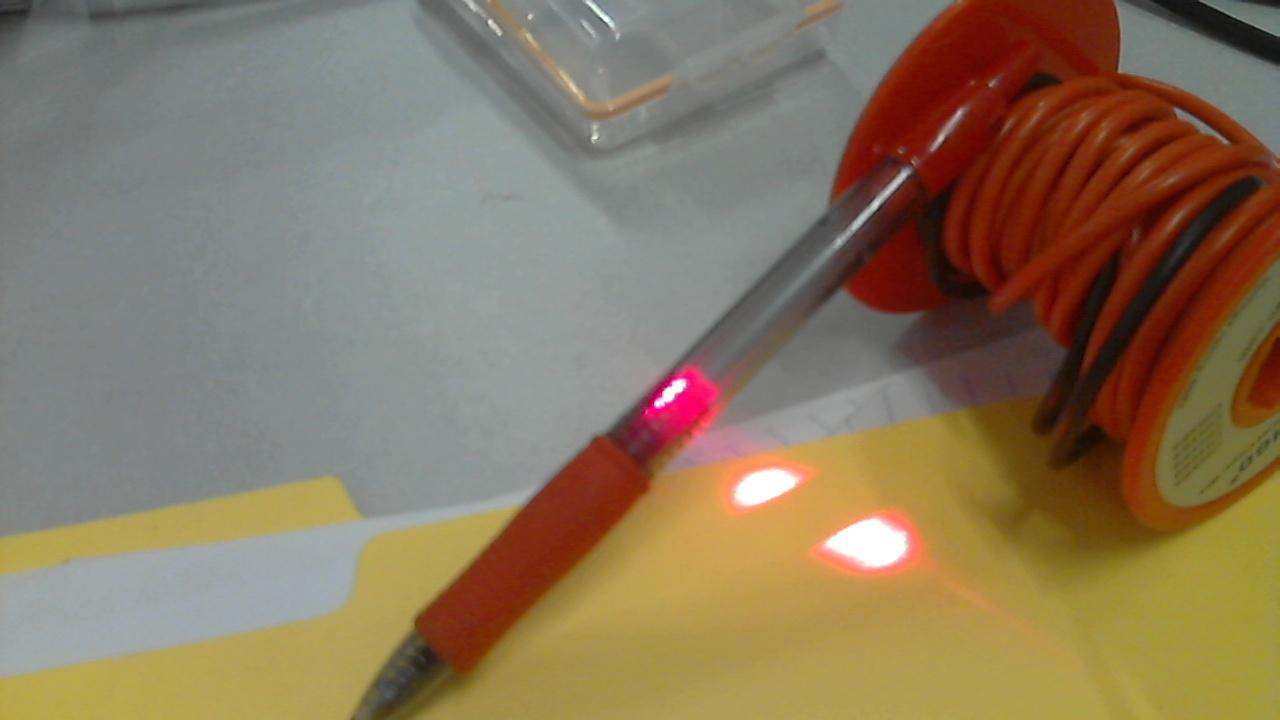Object ballpoint pen - Material plastic - Color clear - Pdfname Tg2wygrqE5uZ: (634, 356, 725, 440)
